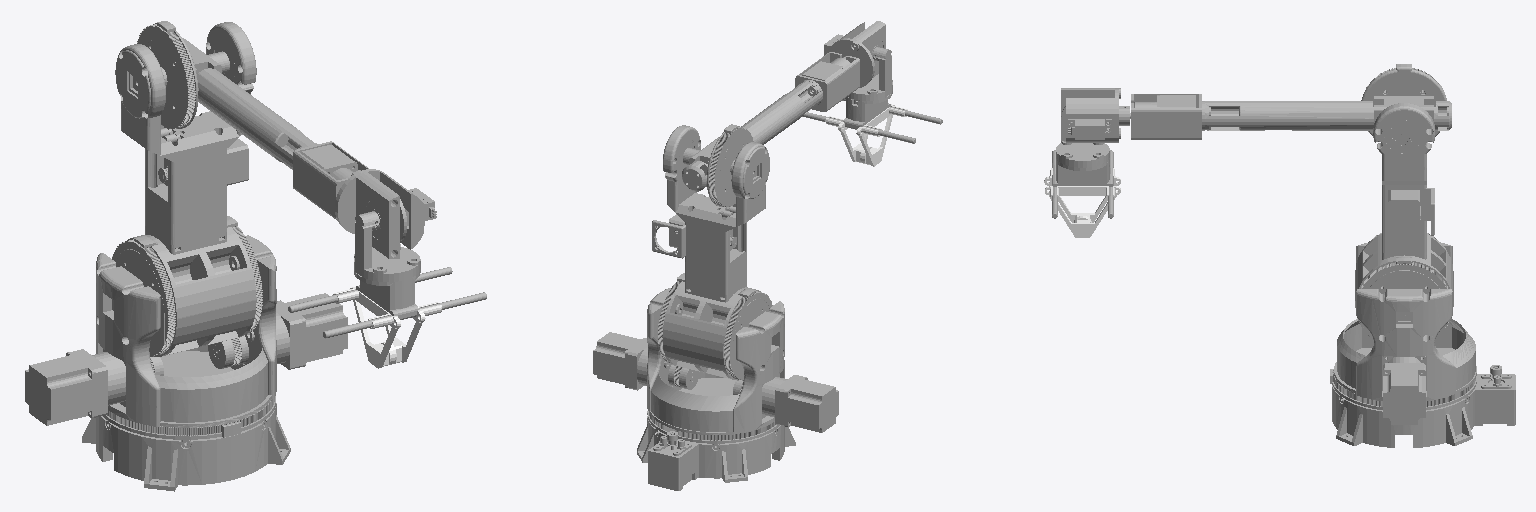
URDF robot description (robot_ERA):
<?xml version="1.0" encoding="utf-8"?>
<!-- This URDF was automatically created by SolidWorks to URDF Exporter! Originally created by [author] ([email redacted]) 
     Commit Version: 1.6.0-4-g7f85cfe  Build Version: 1.6.7995.38578
     For more information, please see http://wiki.ros.org/sw_urdf_exporter -->
<robot
  name="robot_ERA">
  <link
    name="link_0">
    <inertial>
      <origin
        xyz="8.1811E-06 0.064148 0.028491"
        rpy="0 0 0" />
      <mass
        value="1.4573" />
      <inertia
        ixx="0.0028441"
        ixy="-6.1635E-07"
        ixz="9.4583E-08"
        iyy="0.0021256"
        iyz="-2.3032E-05"
        izz="0.0044372" />
    </inertial>
    <visual>
      <origin
        xyz="0 0 0"
        rpy="0 0 0" />
      <geometry>
        <mesh
          filename="package://robot_ERA/meshes/link_0.STL" />
      </geometry>
      <material
        name="">
        <color
          rgba="0.75294 0.75294 0.75294 1" />
      </material>
    </visual>
    <collision>
      <origin
        xyz="0 0 0"
        rpy="0 0 0" />
      <geometry>
        <mesh
          filename="package://robot_ERA/meshes/link_0.STL" />
      </geometry>
    </collision>
  </link>
  <link
    name="link_1">
    <inertial>
      <origin
        xyz="-8.8702E-05 0.078879 1.4751E-06"
        rpy="0 0 0" />
      <mass
        value="4.9252" />
      <inertia
        ixx="0.0097895"
        ixy="7.2357E-06"
        ixz="3.8633E-07"
        iyy="0.0085832"
        iyz="3.054E-07"
        izz="0.0070331" />
    </inertial>
    <visual>
      <origin
        xyz="0 0 0"
        rpy="0 0 0" />
      <geometry>
        <mesh
          filename="package://robot_ERA/meshes/link_1.STL" />
      </geometry>
      <material
        name="">
        <color
          rgba="0.75294 0.75294 0.75294 1" />
      </material>
    </visual>
    <collision>
      <origin
        xyz="0 0 0"
        rpy="0 0 0" />
      <geometry>
        <mesh
          filename="package://robot_ERA/meshes/link_1.STL" />
      </geometry>
    </collision>
  </link>
  <joint
    name="joint_1"
    type="revolute">
    <origin
      xyz="0 0 0.18918"
      rpy="-1.5708 0 -1.5708" />
    <parent
      link="link_0" />
    <child
      link="link_1" />
    <axis
      xyz="0 -1 0" />
    <limit
      lower="-1.5708"
      upper="1.5708"
      effort="1000"
      velocity="5" />
  </joint>
  <link
    name="link_2">
    <inertial>
      <origin
        xyz="-0.16126 -0.00013669 0.0078296"
        rpy="0 0 0" />
      <mass
        value="2.9774" />
      <inertia
        ixx="0.0039574"
        ixy="-7.0718E-06"
        ixz="3.5071E-05"
        iyy="0.0062534"
        iyz="1.2358E-05"
        izz="0.0057159" />
    </inertial>
    <visual>
      <origin
        xyz="0 0 0"
        rpy="0 0 0" />
      <geometry>
        <mesh
          filename="package://robot_ERA/meshes/link_2.STL" />
      </geometry>
      <material
        name="">
        <color
          rgba="0.75294 0.75294 0.75294 1" />
      </material>
    </visual>
    <collision>
      <origin
        xyz="0 0 0"
        rpy="0 0 0" />
      <geometry>
        <mesh
          filename="package://robot_ERA/meshes/link_2.STL" />
      </geometry>
    </collision>
  </link>
  <joint
    name="joint_2"
    type="revolute">
    <origin
      xyz="0.00012374 -0.25568 0.00149"
      rpy="0 0 -1.5708" />
    <parent
      link="link_1" />
    <child
      link="link_2" />
    <axis
      xyz="0 0 1" />
    <limit
      lower="-1.5708"
      upper="1.5708"
      effort="1000"
      velocity="5" />
  </joint>
  <link
    name="link_3">
    <inertial>
      <origin
        xyz="-0.00037089 0.0022929 0.21175"
        rpy="0 0 0" />
      <mass
        value="1.4008" />
      <inertia
        ixx="0.0041861"
        ixy="-9.3379E-06"
        ixz="2.726E-05"
        iyy="0.0042431"
        iyz="0.00018761"
        izz="0.00049492" />
    </inertial>
    <visual>
      <origin
        xyz="0 0 0"
        rpy="0 0 0" />
      <geometry>
        <mesh
          filename="package://robot_ERA/meshes/link_3.STL" />
      </geometry>
      <material
        name="">
        <color
          rgba="0.75294 0.75294 0.75294 1" />
      </material>
    </visual>
    <collision>
      <origin
        xyz="0 0 0"
        rpy="0 0 0" />
      <geometry>
        <mesh
          filename="package://robot_ERA/meshes/link_3.STL" />
      </geometry>
    </collision>
  </link>
  <joint
    name="joint_3"
    type="revolute">
    <origin
      xyz="0 0 0"
      rpy="-1.5708 0 0" />
    <parent
      link="link_2" />
    <child
      link="link_3" />
    <axis
      xyz="0 1 0" />
    <limit
      lower="-1.5708"
      upper="1.5708"
      effort="1000"
      velocity="5" />
  </joint>
  <link
    name="link_4">
    <inertial>
      <origin
        xyz="7.0469E-06 0.0095026 0.0073794"
        rpy="0 0 0" />
      <mass
        value="0.34675" />
      <inertia
        ixx="0.0001352"
        ixy="-7.1861E-08"
        ixz="3.0244E-08"
        iyy="0.00010582"
        iyz="1.6894E-05"
        izz="0.0001737" />
    </inertial>
    <visual>
      <origin
        xyz="0 0 0"
        rpy="0 0 0" />
      <geometry>
        <mesh
          filename="package://robot_ERA/meshes/link_4.STL" />
      </geometry>
      <material
        name="">
        <color
          rgba="0.75294 0.75294 0.75294 1" />
      </material>
    </visual>
    <collision>
      <origin
        xyz="0 0 0"
        rpy="0 0 0" />
      <geometry>
        <mesh
          filename="package://robot_ERA/meshes/link_4.STL" />
      </geometry>
    </collision>
  </link>
  <joint
    name="joint_4"
    type="revolute">
    <origin
      xyz="0 0 0.4284"
      rpy="-1.5708 0 -3.1416" />
    <parent
      link="link_3" />
    <child
      link="link_4" />
    <axis
      xyz="0 -1 0" />
    <limit
      lower="-1.5708"
      upper="1.5708"
      effort="1000"
      velocity="5" />
  </joint>
  <link
    name="link_5">
    <inertial>
      <origin
        xyz="-1.3738E-06 -0.10051 -0.0017487"
        rpy="0 0 0" />
      <mass
        value="0.15564" />
      <inertia
        ixx="0.00013453"
        ixy="3.9846E-07"
        ixz="-1.0521E-08"
        iyy="0.0001752"
        iyz="-9.0766E-06"
        izz="0.00010461" />
    </inertial>
    <visual>
      <origin
        xyz="0 0 0"
        rpy="0 0 0" />
      <geometry>
        <mesh
          filename="package://robot_ERA/meshes/link_5.STL" />
      </geometry>
      <material
        name="">
        <color
          rgba="0.75294 0.75294 0.75294 1" />
      </material>
    </visual>
    <collision>
      <origin
        xyz="0 0 0"
        rpy="0 0 0" />
      <geometry>
        <mesh
          filename="package://robot_ERA/meshes/link_5.STL" />
      </geometry>
    </collision>
  </link>
  <joint
    name="joint_5"
    type="revolute">
    <origin
      xyz="0.16115 0 0"
      rpy="0 0 -1.5708" />
    <parent
      link="link_4" />
    <child
      link="link_5" />
    <axis
      xyz="0 0 -1" />
    <limit
      lower="-1.5708"
      upper="1.5708"
      effort="1000"
      velocity="5" />
  </joint>
  <link
    name="link_6_1">
    <inertial>
      <origin
        xyz="8.8999E-07 -0.028749 0.015149"
        rpy="0 0 0" />
      <mass
        value="0.019387" />
      <inertia
        ixx="1.6008E-05"
        ixy="2.8705E-09"
        ixz="-1.7551E-09"
        iyy="1.1841E-05"
        iyz="2.6004E-06"
        izz="2.5312E-05" />
    </inertial>
    <visual>
      <origin
        xyz="0 0 0"
        rpy="0 0 0" />
      <geometry>
        <mesh
          filename="package://robot_ERA/meshes/link_6_1.STL" />
      </geometry>
      <material
        name="">
        <color
          rgba="1 1 1 1" />
      </material>
    </visual>
    <collision>
      <origin
        xyz="0 0 0"
        rpy="0 0 0" />
      <geometry>
        <mesh
          filename="package://robot_ERA/meshes/link_6_1.STL" />
      </geometry>
    </collision>
  </link>
  <joint
    name="joint_6_1"
    type="prismatic">
    <origin
      xyz="0 0 0"
      rpy="0 0 0" />
    <parent
      link="link_5" />
    <child
      link="link_6_1" />
    <axis
      xyz="0 0 -1" />
    <limit
      lower="0"
      upper="0.1"
      effort="100"
      velocity="5" />
  </joint>
  <link
    name="link_6_2">
    <inertial>
      <origin
        xyz="4.2572E-06 -0.0288 0.013728"
        rpy="0 0 0" />
      <mass
        value="0.019424" />
      <inertia
        ixx="1.6036E-05"
        ixy="-5.7669E-10"
        ixz="2.141E-09"
        iyy="1.1905E-05"
        iyz="2.5998E-06"
        izz="2.5404E-05" />
    </inertial>
    <visual>
      <origin
        xyz="0 0 0"
        rpy="0 0 0" />
      <geometry>
        <mesh
          filename="package://robot_ERA/meshes/link_6_2.STL" />
      </geometry>
      <material
        name="">
        <color
          rgba="1 1 1 1" />
      </material>
    </visual>
    <collision>
      <origin
        xyz="0 0 0"
        rpy="0 0 0" />
      <geometry>
        <mesh
          filename="package://robot_ERA/meshes/link_6_2.STL" />
      </geometry>
    </collision>
  </link>
  <joint
    name="joint_6_2"
    type="prismatic">
    <origin
      xyz="0 0 0"
      rpy="3.1416 0 3.1416" />
    <parent
      link="link_5" />
    <child
      link="link_6_2" />
    <axis
      xyz="0 0 1" />
    <limit
      lower="0"
      upper="0.1"
      effort="100"
      velocity="5" />
  </joint>
</robot>

--- Facts derived from the render (not from the file) ---
The picture shows the robot from 3 angles, left to right: view 1: azimuth 30°, elevation 25°; view 2: azimuth 150°, elevation 25°; view 3: azimuth 270°, elevation 25°; orthographic projection.
Robot: robot_ERA — 8 links, 7 joints (5 revolute, 2 prismatic); root link link_0; default pose: every joint at zero.
Visible links, largest first — view 1: link_1, link_2, link_3, link_0, link_5, link_4, link_6_2, link_6_1; view 2: link_2, link_1, link_3, link_0, link_5, link_4, link_6_2; view 3: link_1, link_2, link_3, link_0, link_4, link_5, link_6_1.
Link boxes in pixels (left/top/right/bottom): link_1: left=25, top=235, right=347, bottom=439; link_2: left=112, top=22, right=262, bottom=356; link_3: left=133, top=21, right=368, bottom=219; link_0: left=82, top=403, right=290, bottom=491; link_5: left=288, top=199, right=486, bottom=338; link_4: left=335, top=169, right=436, bottom=258; link_6_2: left=333, top=287, right=400, bottom=368; link_6_1: left=385, top=302, right=441, bottom=364; link_2: left=652, top=125, right=772, bottom=380; link_1: left=593, top=288, right=838, bottom=443; link_3: left=682, top=52, right=859, bottom=206; link_0: left=637, top=416, right=795, bottom=490; link_5: left=802, top=47, right=942, bottom=143; link_4: left=824, top=21, right=885, bottom=87; link_6_2: left=856, top=104, right=907, bottom=166; link_1: left=1330, top=242, right=1476, bottom=424; link_2: left=1355, top=103, right=1453, bottom=339; link_3: left=1130, top=64, right=1451, bottom=139; link_0: left=1332, top=365, right=1515, bottom=447; link_4: left=1061, top=88, right=1129, bottom=142; link_5: left=1052, top=106, right=1113, bottom=218; link_6_1: left=1045, top=186, right=1120, bottom=237.
Bounding box of the posed robot: 0.367 × 0.6276 × 0.5065 m (x, y, z).
Meshes: 8 distinct files referenced, 8 mesh visuals loaded (8 binary STL).